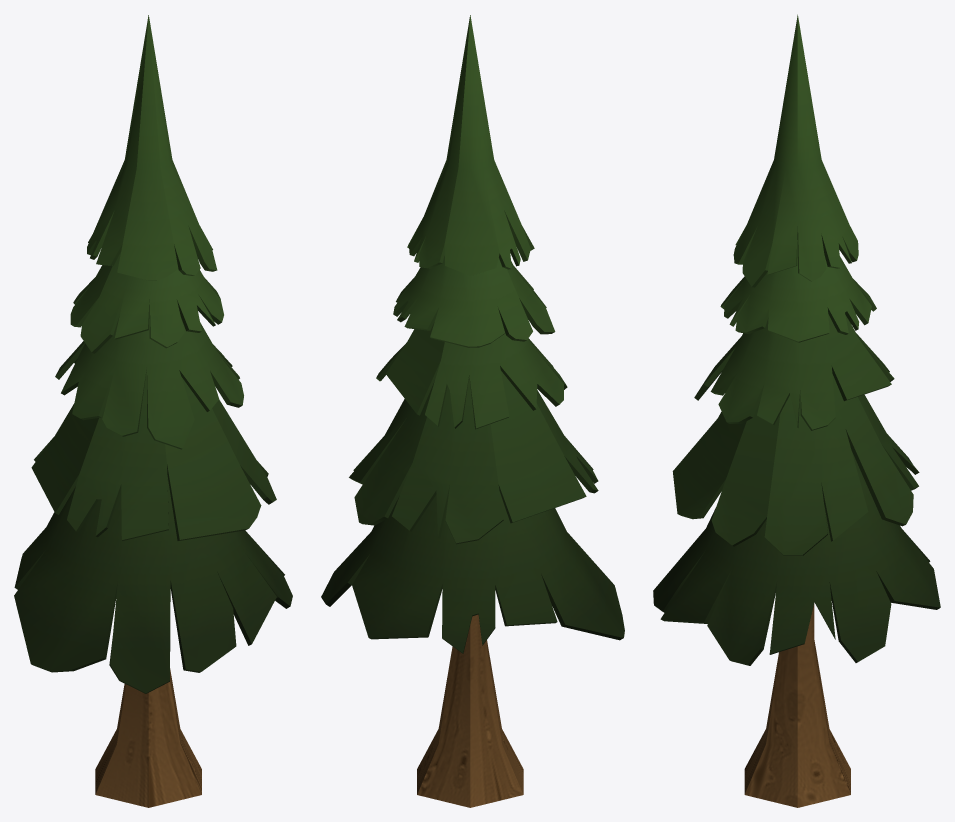
The model's file is Tree_Green1.fbx.
3 renders of one model, left to right at view 1: azimuth 30°, elevation 25°; view 2: azimuth 150°, elevation 25°; view 3: azimuth 270°, elevation 25°, orthographic.
Visible parts, largest first — view 1: TreeGreen; view 2: TreeGreen; view 3: TreeGreen.
Part boxes in pixels (x1,y1,x2,y2): TreeGreen: [14, 15, 292, 807]; TreeGreen: [321, 15, 624, 807]; TreeGreen: [653, 14, 940, 807].
Bounding box in the file's own units: 234 × 664 × 225.
Materials: 1 (1 with a texture image).
